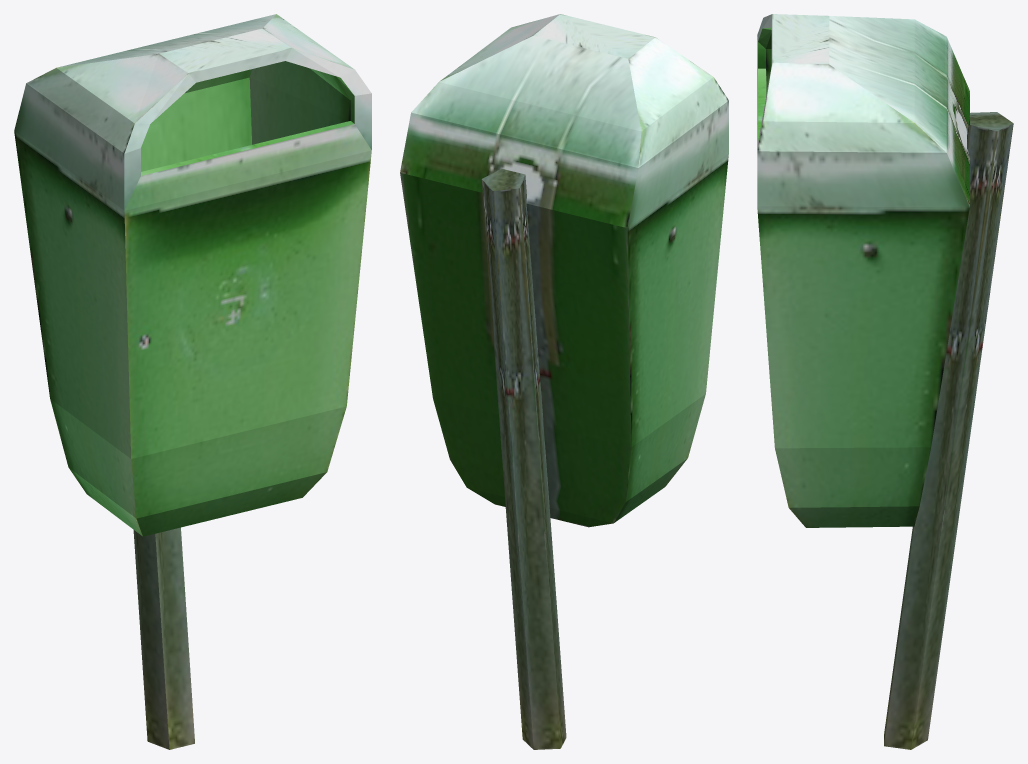
File: TrashBin02.obj
The picture shows the model from 3 angles, left to right: view 1: azimuth 30°, elevation 25°; view 2: azimuth 150°, elevation 25°; view 3: azimuth 270°, elevation 25°; orthographic projection. The views are drawn at different scales.
Visible parts, largest first — view 1: TrashBin02; view 2: TrashBin02; view 3: TrashBin02.
Boxes of the visible parts, x1,y1,x2,y2 form: TrashBin02: (14,14,371,749); TrashBin02: (400,14,728,749); TrashBin02: (757,14,1013,749).
Size of the model in its own units: 0.8641 by 2.43 by 0.8053.
